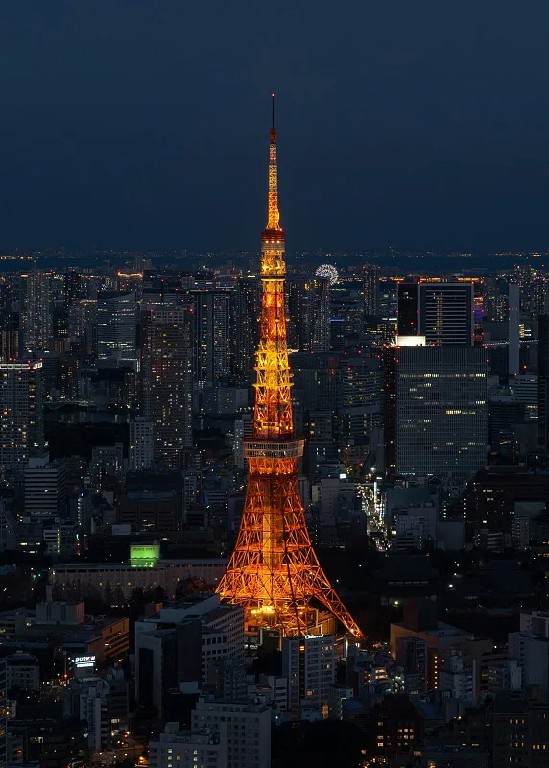Tokyo: (202, 87, 364, 648)
